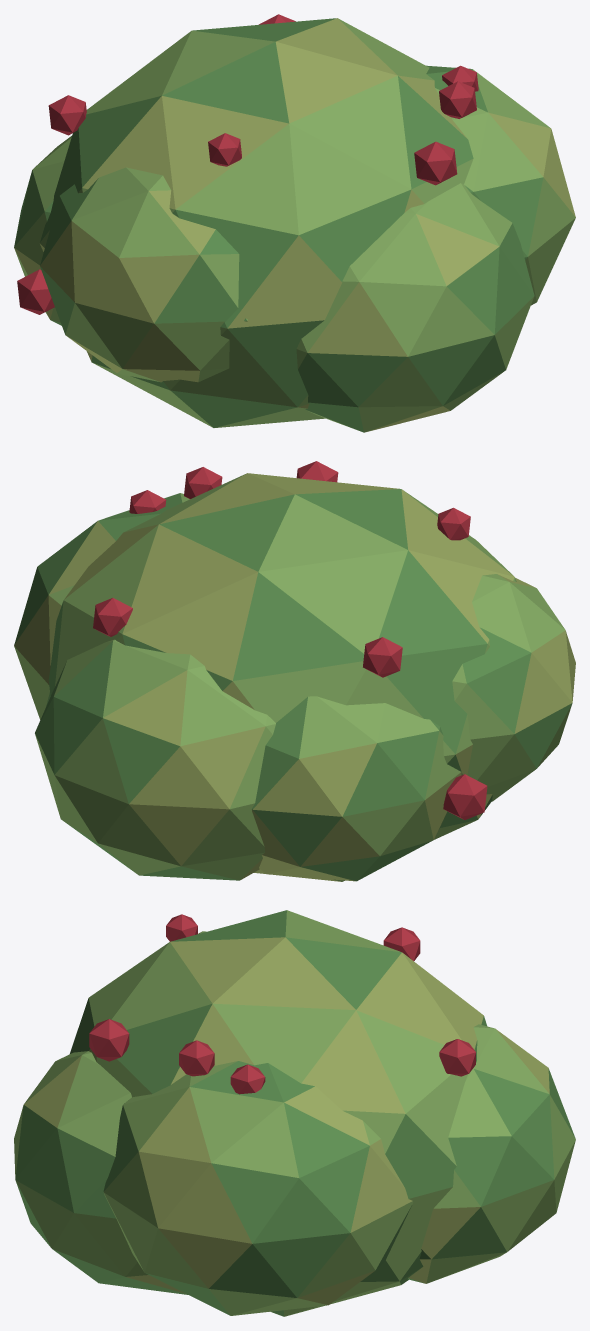
File: bush_berry.glb
3 views of the same model, one above another, from view 1: azimuth 30°, elevation 25°; view 2: azimuth 150°, elevation 25°; view 3: azimuth 270°, elevation 25° (orthographic). The views are drawn at different scales.
Visible parts, largest first — view 1: bush_berry; view 2: bush_berry; view 3: bush_berry.
Boxes of the visible parts, x1=… form: bush_berry: x1=14, y1=14, x2=575, y2=432; bush_berry: x1=14, y1=461, x2=575, y2=881; bush_berry: x1=14, y1=910, x2=575, y2=1316.
Bounding box in the file's own units: 1.38 × 0.9446 × 1.37.
